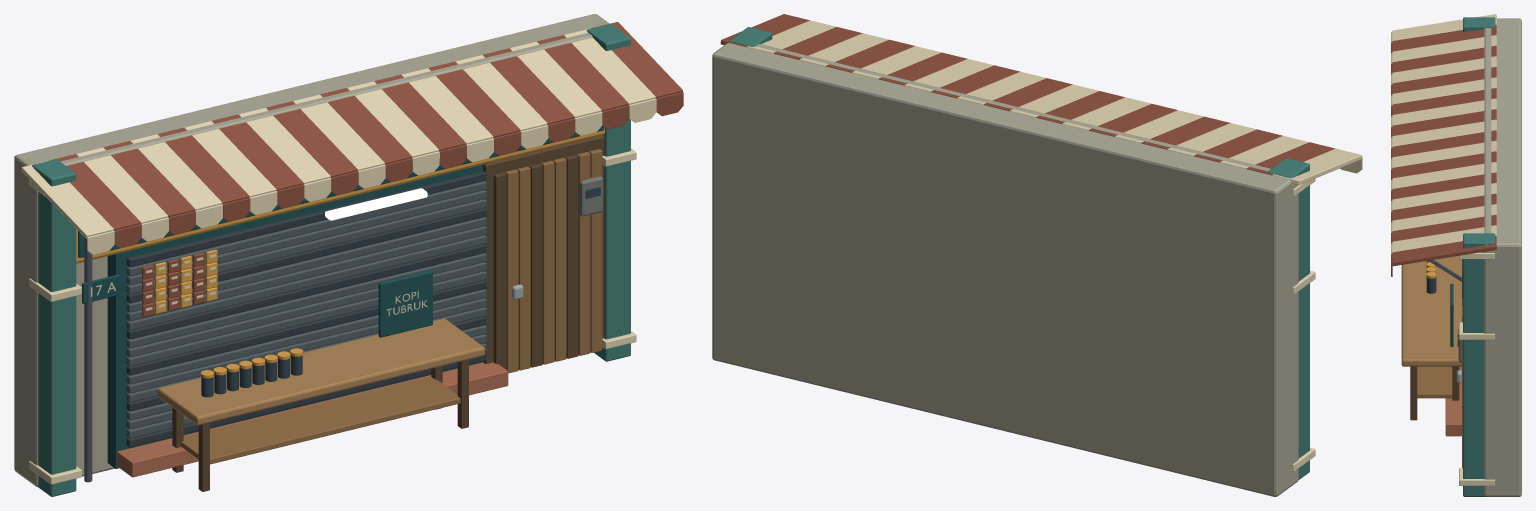
The model's file is WarungSri.fbx.
3 renders of one model, left to right at view 1: azimuth 30°, elevation 25°; view 2: azimuth 150°, elevation 25°; view 3: azimuth 270°, elevation 25°, orthographic. The views are drawn at different scales.
Parts seen in each view (by area): view 1: WarungSri; view 2: WarungSri; view 3: WarungSri.
Part boxes in pixels (x1,y1,x2,y2): WarungSri: (14, 14, 683, 496); WarungSri: (712, 14, 1362, 496); WarungSri: (1391, 14, 1521, 496).
Size of the model in its own units: 749 by 382 by 178.
